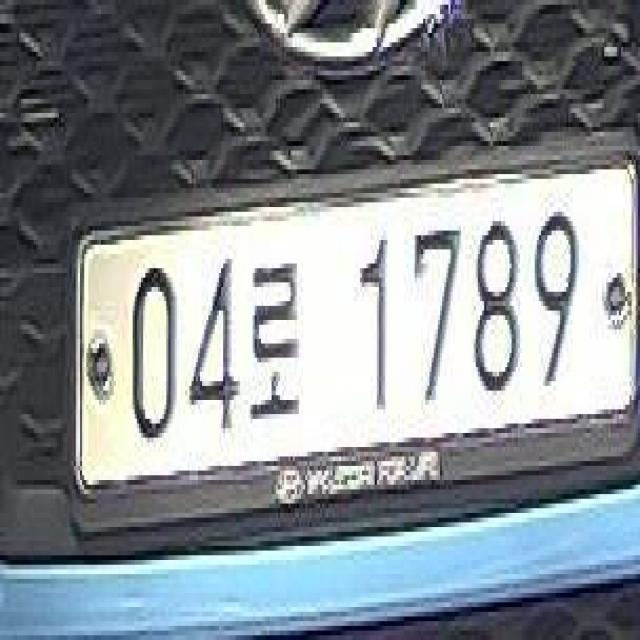illegal_plate: (69, 147, 639, 511)
